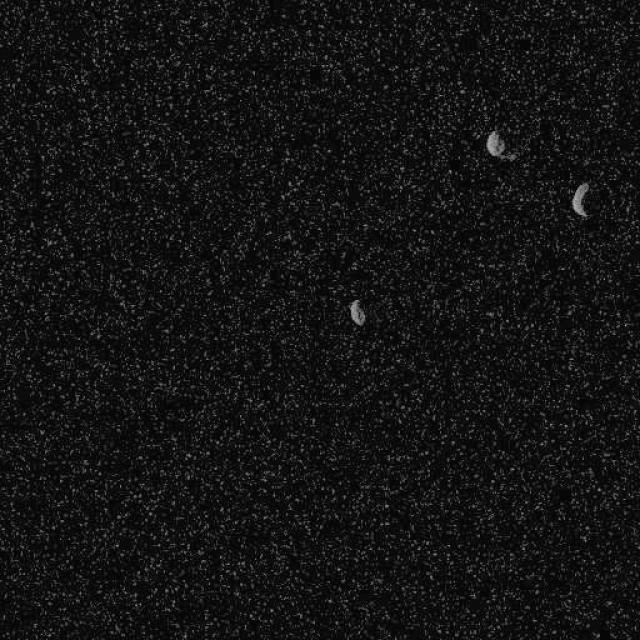D2: (570, 182, 590, 218), (485, 128, 505, 158), (348, 299, 367, 326)
